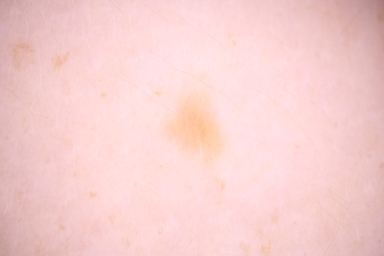nevus: (164, 91, 221, 158)
